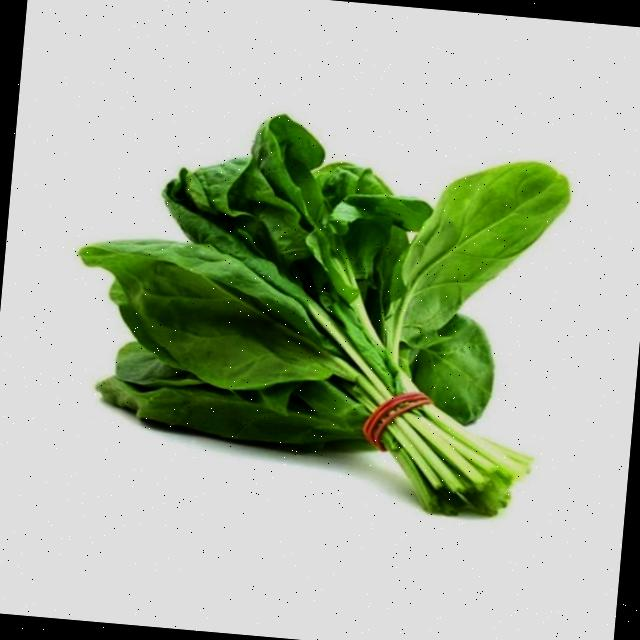spinach: (33, 87, 629, 550)
